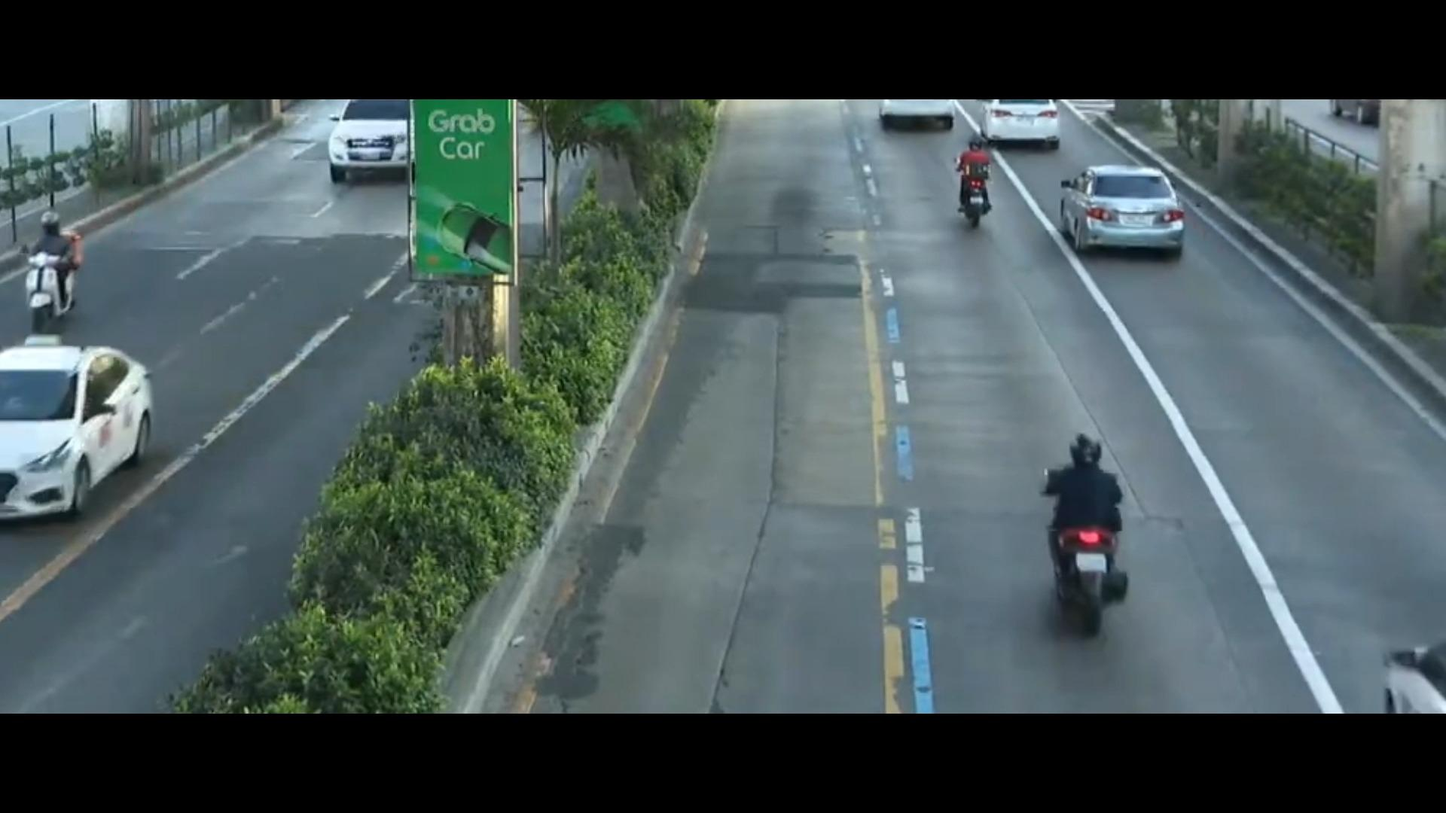Motorcycle: (1017, 418, 1138, 630), (18, 204, 98, 337), (929, 136, 1013, 240)
SUV: (319, 96, 418, 191)
Sedan: (0, 339, 207, 520), (1056, 151, 1195, 280)
